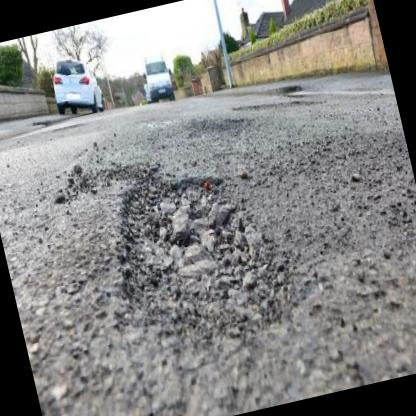pothole: (86, 140, 302, 359)
